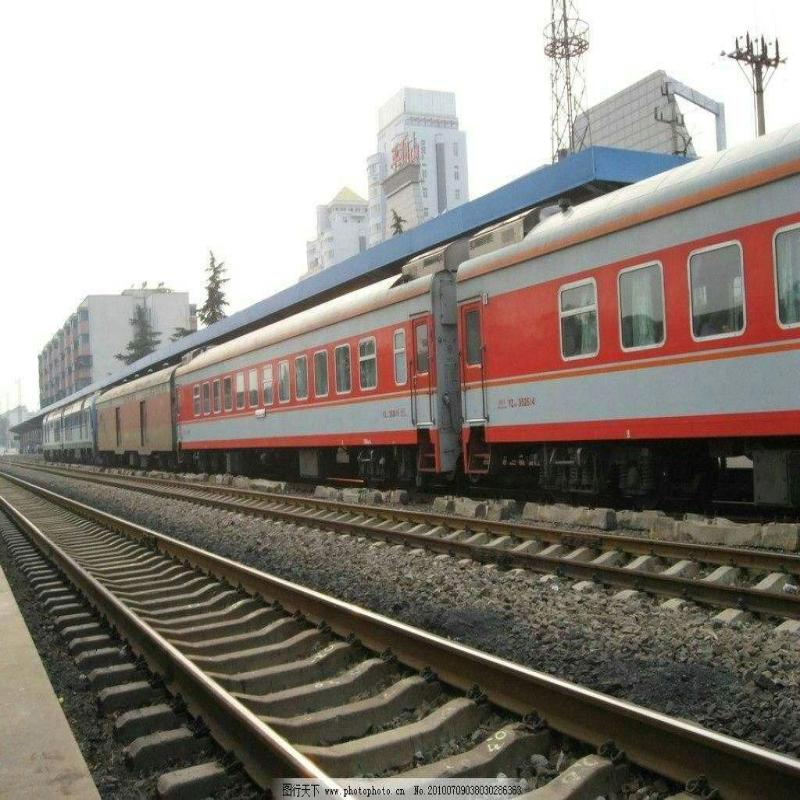train: (140, 208, 766, 536)
